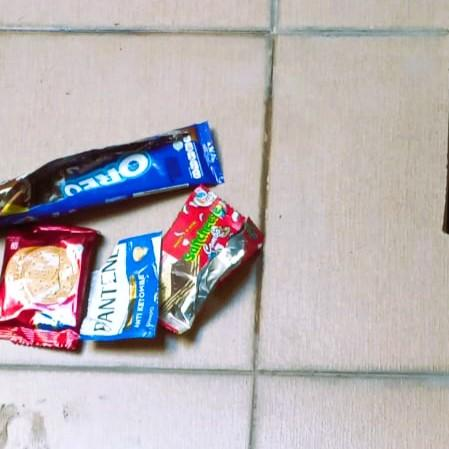Plastik: (0, 121, 225, 223), (156, 183, 265, 333), (0, 225, 96, 351), (80, 230, 163, 342)
